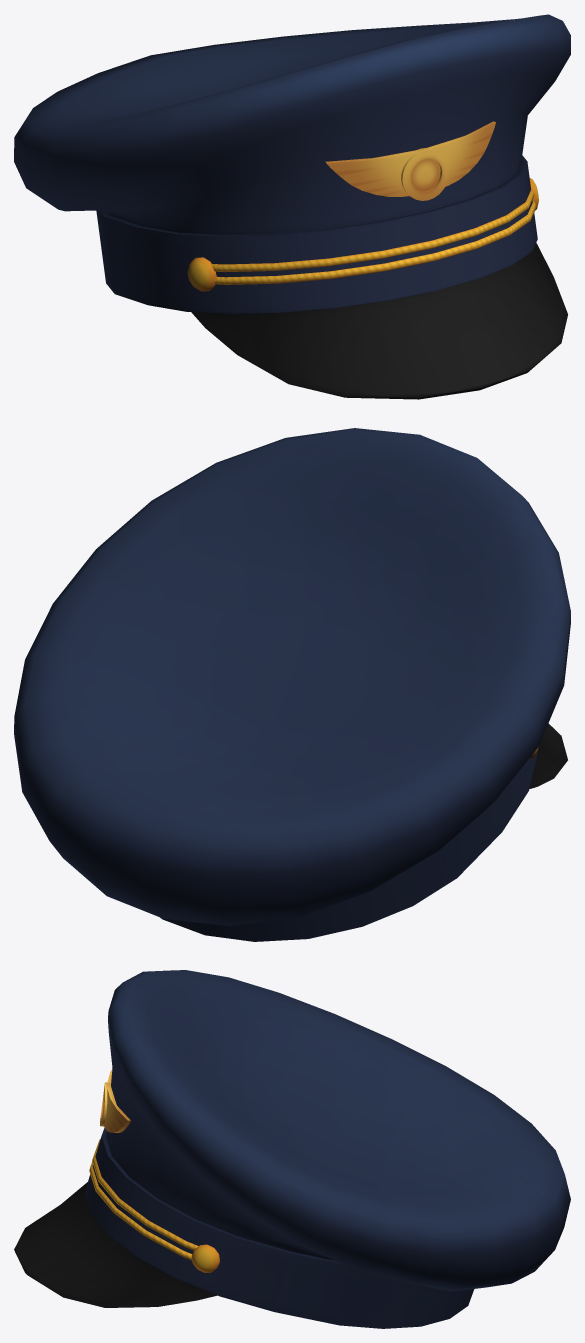
The model's file is PilotHat.FBX.
The picture shows the model from 3 angles, top to bottom: view 1: azimuth 30°, elevation 25°; view 2: azimuth 150°, elevation 25°; view 3: azimuth 270°, elevation 25°; orthographic projection. The views are drawn at different scales.
Visible parts, largest first — view 1: PilotHat; view 2: PilotHat; view 3: PilotHat.
Part boxes in pixels (x1,y1,x2,y2): PilotHat: [14, 14, 570, 399]; PilotHat: [14, 428, 570, 941]; PilotHat: [14, 970, 570, 1328].
Size of the model in its own units: 46.39 by 31.61 by 55.46.
Materials: 1 (1 with a texture image).
